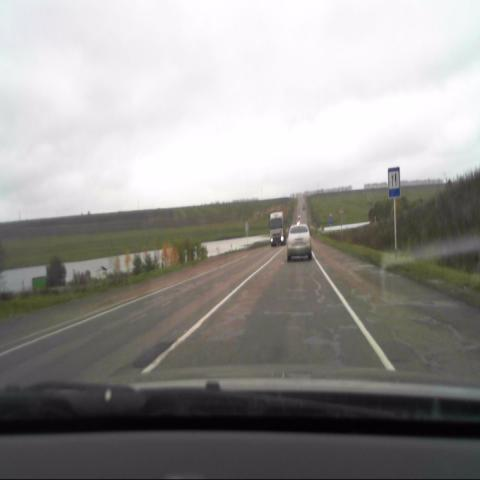7_7: (388, 166, 400, 198)
